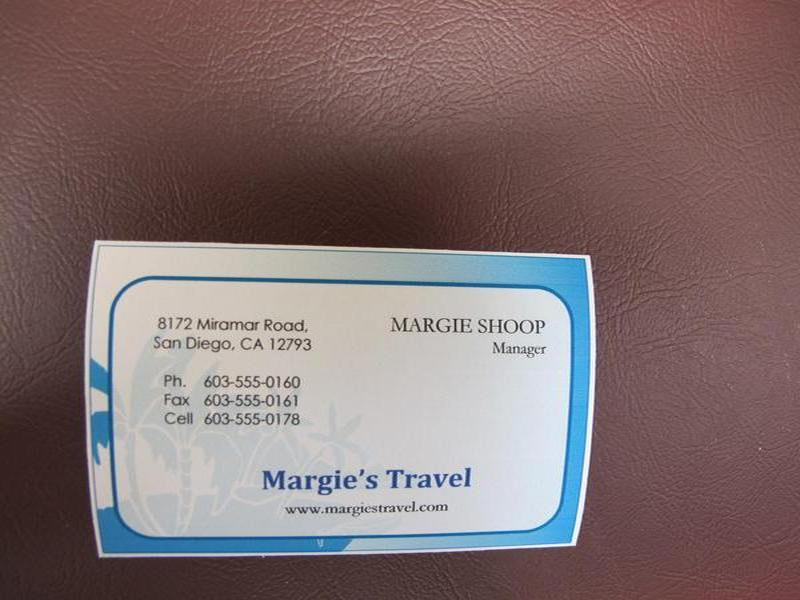card: (79, 234, 600, 561)
